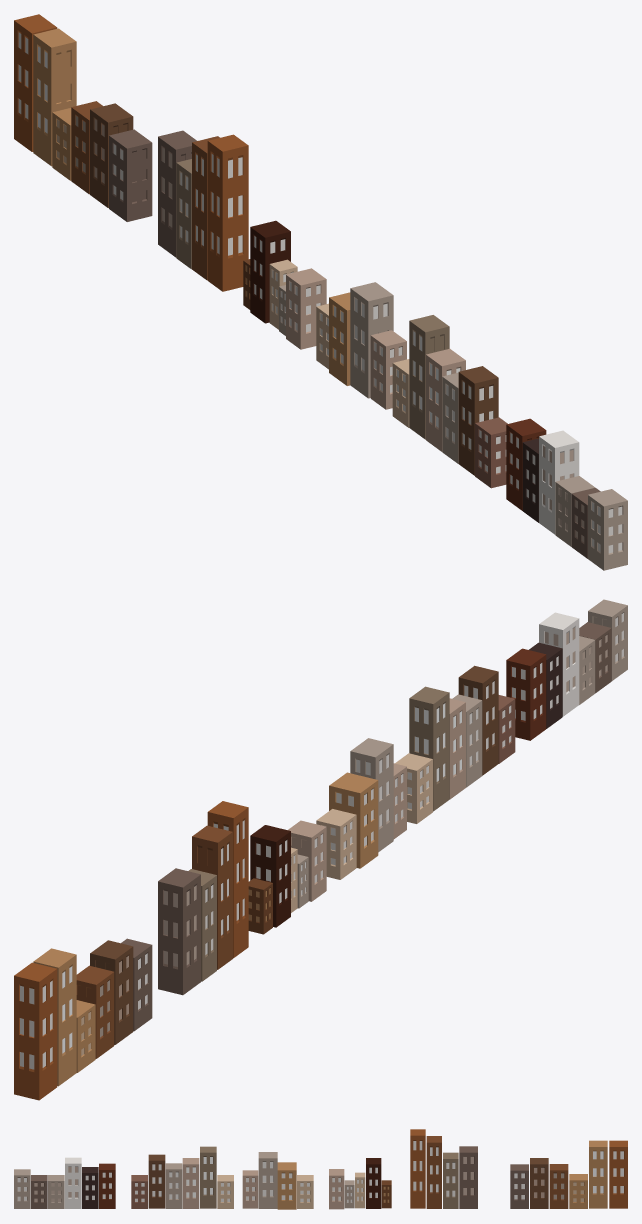
The model's file is edificios.fbx.
3 renders of one model, top to bottom at view 1: azimuth 30°, elevation 25°; view 2: azimuth 150°, elevation 25°; view 3: azimuth 270°, elevation 25°, orthographic. The views are drawn at different scales.
Visible parts, largest first — view 1: Cube.015, Cube.023, Cube.019, Cube.004, Cube.030, Cube.012, Cube.024, Cube.009, Cube.007, Cube.027, Cube.018, Cube.001 (+17 smaller); view 2: Cube.024, Cube.018, Cube.009, Cube.016, Cube.025, Cube.015, Cube.003, Cube.007, Cube.023, Cube.004, Cube.020, Cube.027 (+17 smaller); view 3: Cube.023, Cube.024, Cube.015, Cube.018, Cube.016, Cube.004, Cube.009, Cube.012, Cube.020, Cube.003, Cube.010, Cube.017 (+19 smaller).
Boxes of the visible parts, left/top/right/bottom form: Cube.015: left=207, top=134, right=248, bottom=291; Cube.023: left=33, top=28, right=76, bottom=166; Cube.019: left=109, top=129, right=152, bottom=221; Cube.004: left=350, top=282, right=393, bottom=398; Cube.030: left=588, top=489, right=627, bottom=570; Cube.012: left=458, top=366, right=498, bottom=475; Cube.024: left=14, top=14, right=57, bottom=151; Cube.009: left=409, top=315, right=449, bottom=439; Cube.007: left=250, top=220, right=290, bottom=323; Cube.027: left=539, top=430, right=579, bottom=534; Cube.018: left=158, top=130, right=196, bottom=257; Cube.001: left=286, top=268, right=326, bottom=349; Cube.024: left=14, top=962, right=57, bottom=1100; Cube.018: left=158, top=868, right=200, bottom=995; Cube.009: left=409, top=686, right=449, bottom=811; Cube.016: left=192, top=825, right=232, bottom=969; Cube.025: left=506, top=648, right=546, bottom=740; Cube.015: left=207, top=801, right=248, bottom=958; Cube.003: left=329, top=772, right=378, bottom=868; Cube.007: left=250, top=825, right=290, bottom=927; Cube.023: left=33, top=948, right=76, bottom=1086; Cube.004: left=350, top=738, right=393, bottom=852; Cube.020: left=90, top=940, right=133, bottom=1044; Cube.027: left=539, top=612, right=579, bottom=716; Cube.023: left=589, top=1140, right=607, bottom=1208; Cube.024: left=609, top=1140, right=627, bottom=1208; Cube.015: left=410, top=1129, right=425, bottom=1208; Cube.018: left=459, top=1146, right=477, bottom=1208; Cube.016: left=426, top=1136, right=441, bottom=1208; Cube.004: left=258, top=1152, right=277, bottom=1208; Cube.009: left=200, top=1146, right=216, bottom=1208; Cube.012: left=148, top=1154, right=165, bottom=1208; Cube.020: left=530, top=1158, right=548, bottom=1208; Cube.003: left=277, top=1162, right=296, bottom=1209; Cube.010: left=182, top=1158, right=199, bottom=1208; Cube.017: left=443, top=1152, right=458, bottom=1208.
Bounding box in the file's own units: 30 × 130 × 982.
Materials: 1 (1 with a texture image).
